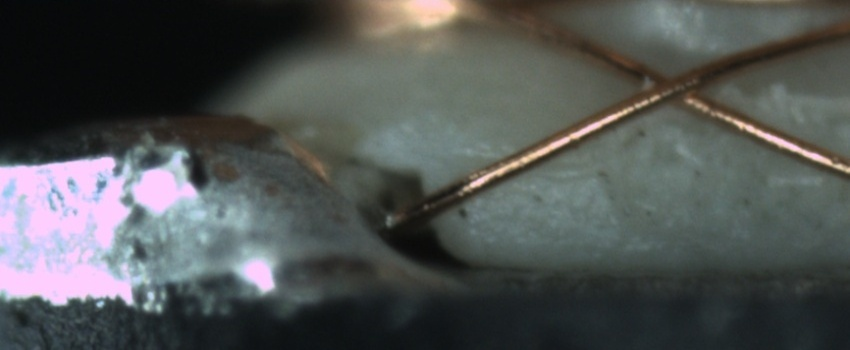CL: (622, 54, 729, 119)
DL: (462, 131, 612, 193)
